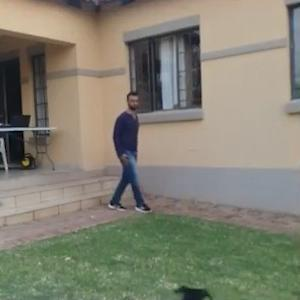follow: (118, 93, 148, 199)
